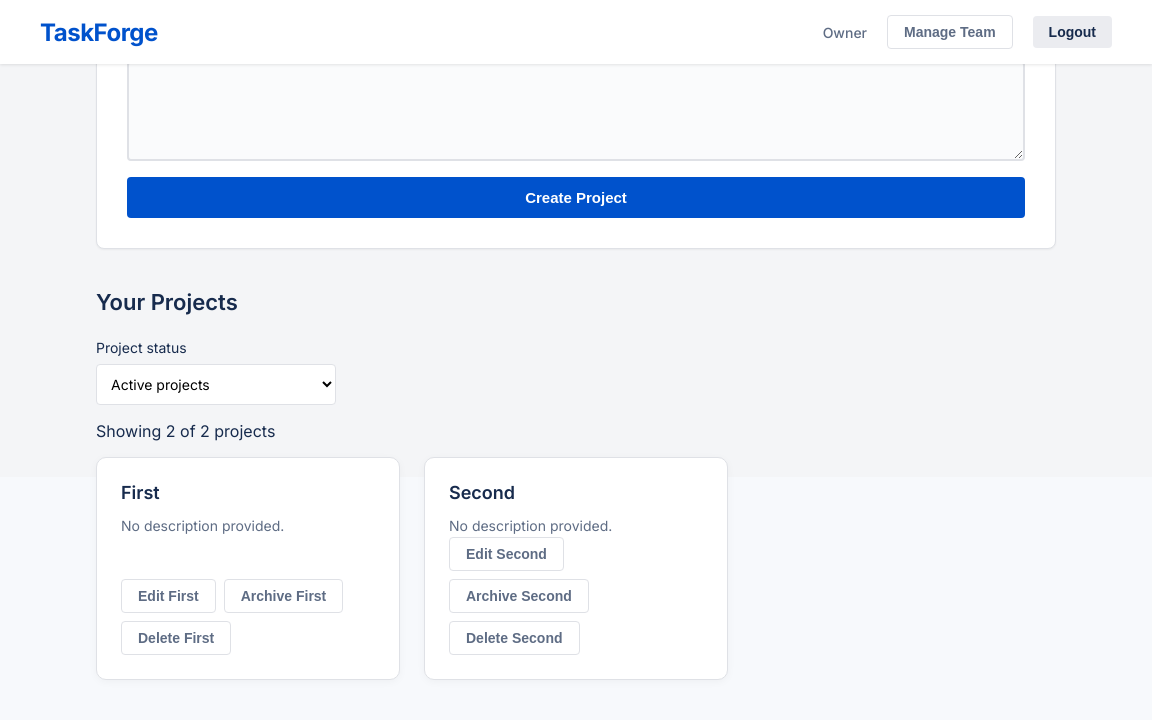
Scenario: ignores an old project response after the user opens another project
(page scrolled)
What coordinates should you click on to do the following:
click the button with aria-label "Open First"
I would click on:
 (140, 492)
Its box is [121,482,160,503].
(page scrolled)
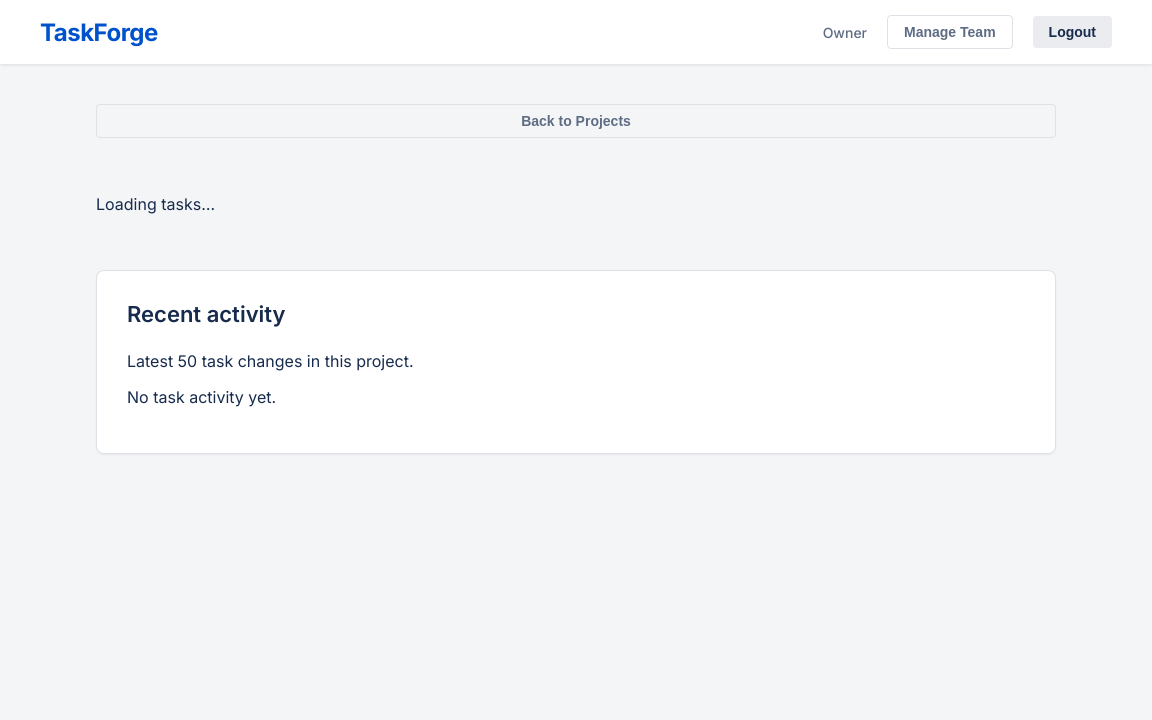
What coordinates should you click on to do the following:
click the button "Back to Projects"
I would click on:
 (576, 121)
Its box is [96,104,1056,138].
(page scrolled)
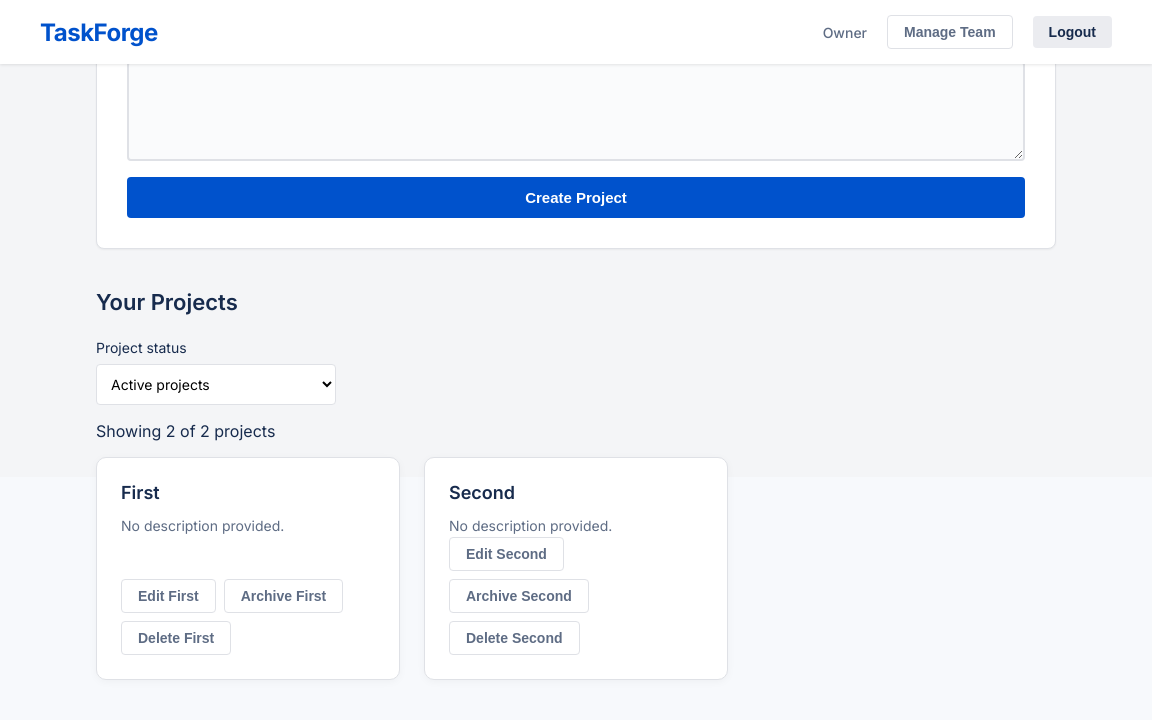
What coordinates should you click on to do the following:
click the button with aria-label "Open Second"
I would click on:
 (482, 492)
Its box is [449,482,515,503].
(page scrolled)
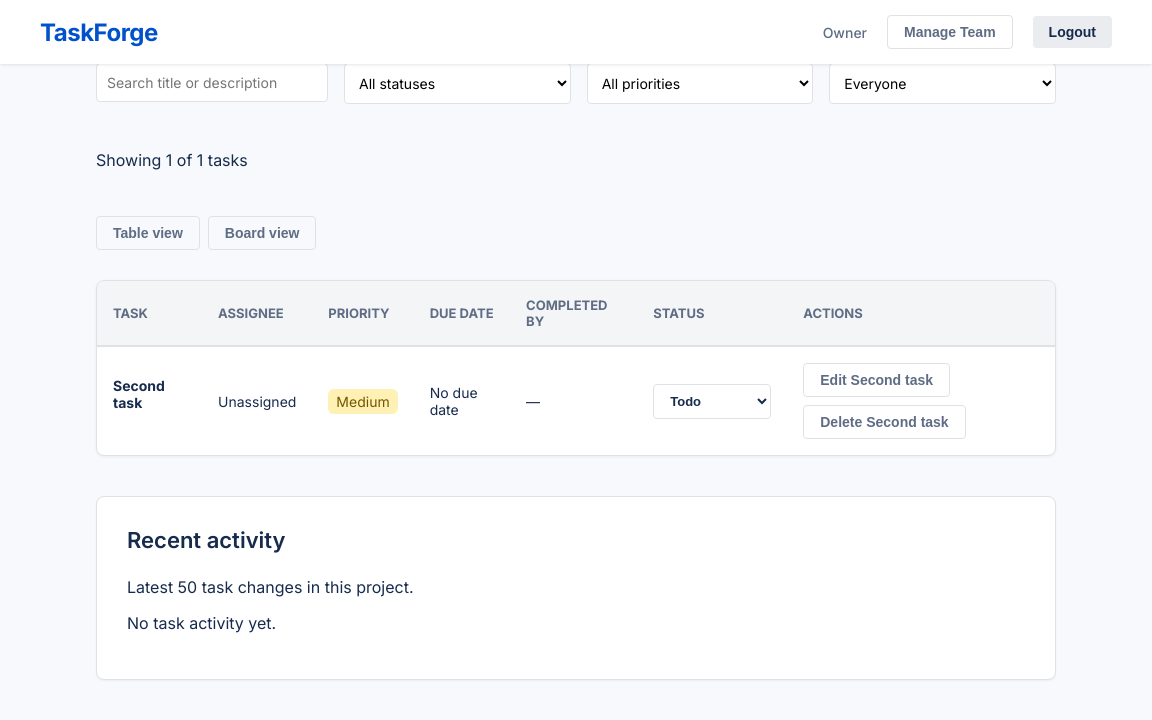
Result: the text "Second task" is shown at [113,377,165,411]
